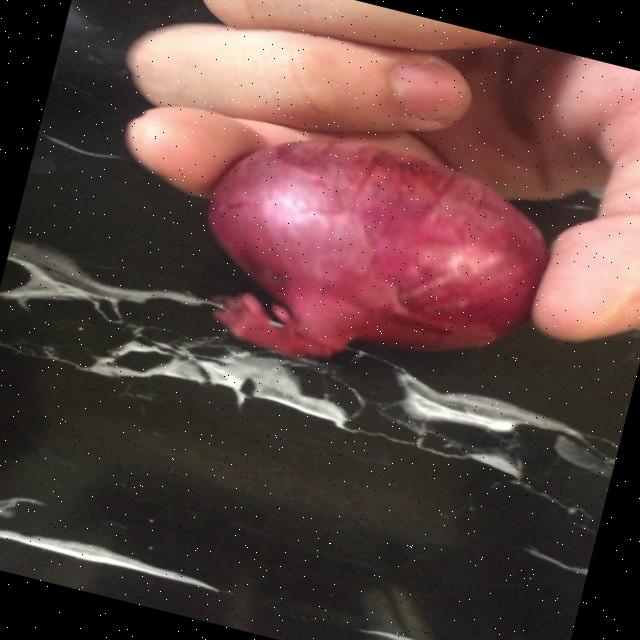Onion: (208, 138, 549, 356)
